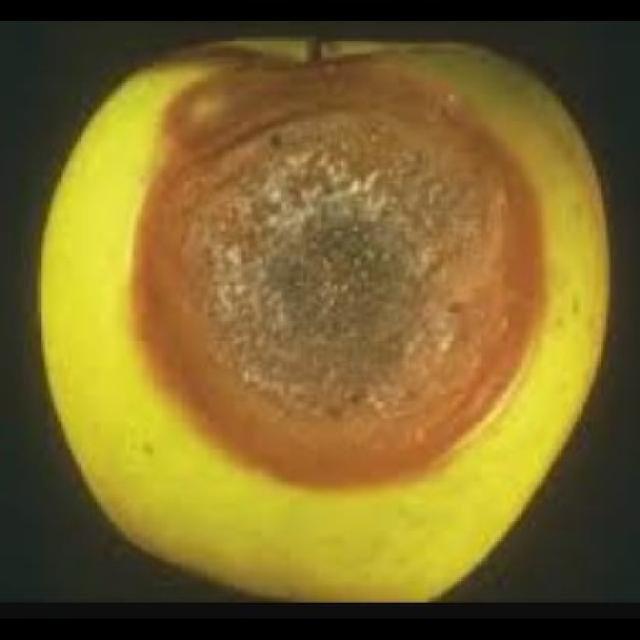Rotten Apple: (34, 34, 611, 600)
